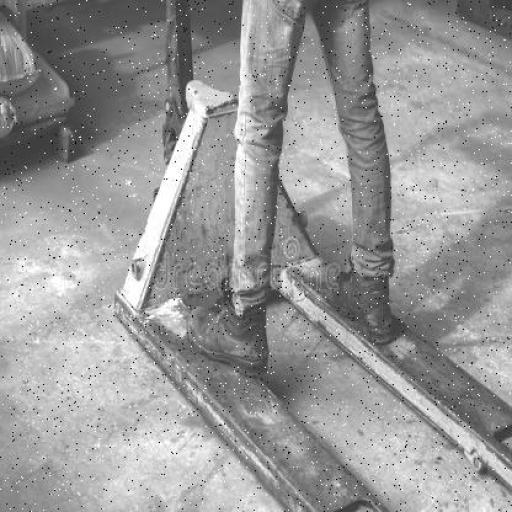safety_shoe: (188, 288, 274, 377), (324, 268, 397, 349)
